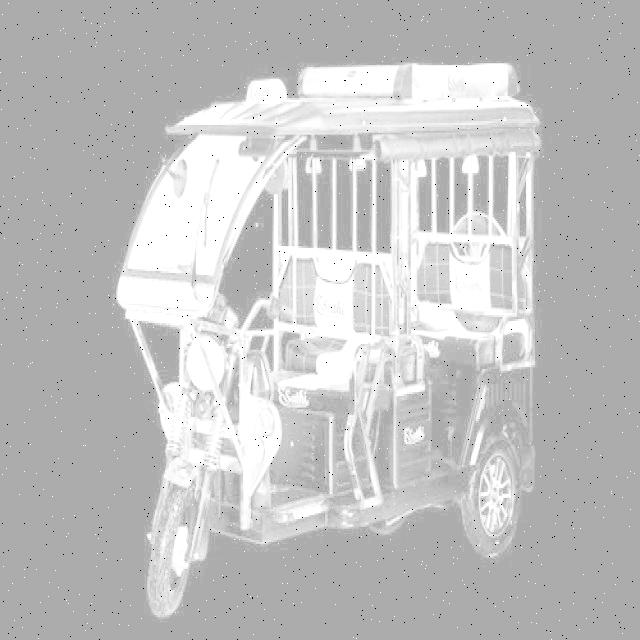Toto: (120, 85, 545, 597)
